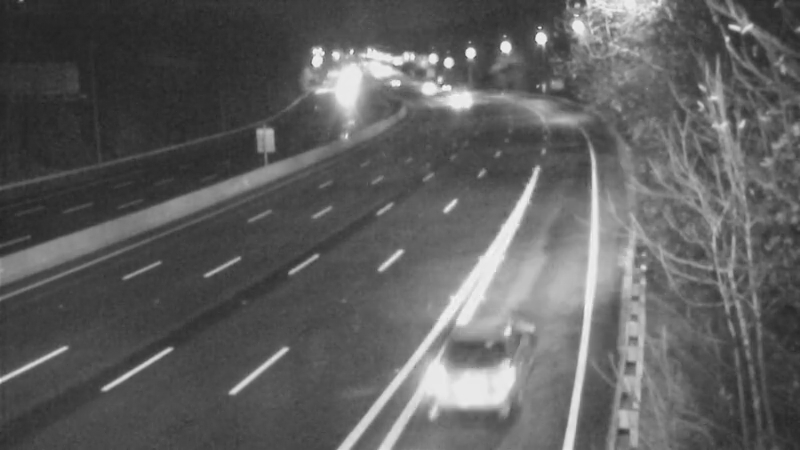vehicle: (415, 334, 525, 444), (371, 58, 421, 108), (422, 63, 472, 113), (401, 66, 451, 116), (432, 75, 482, 125)
